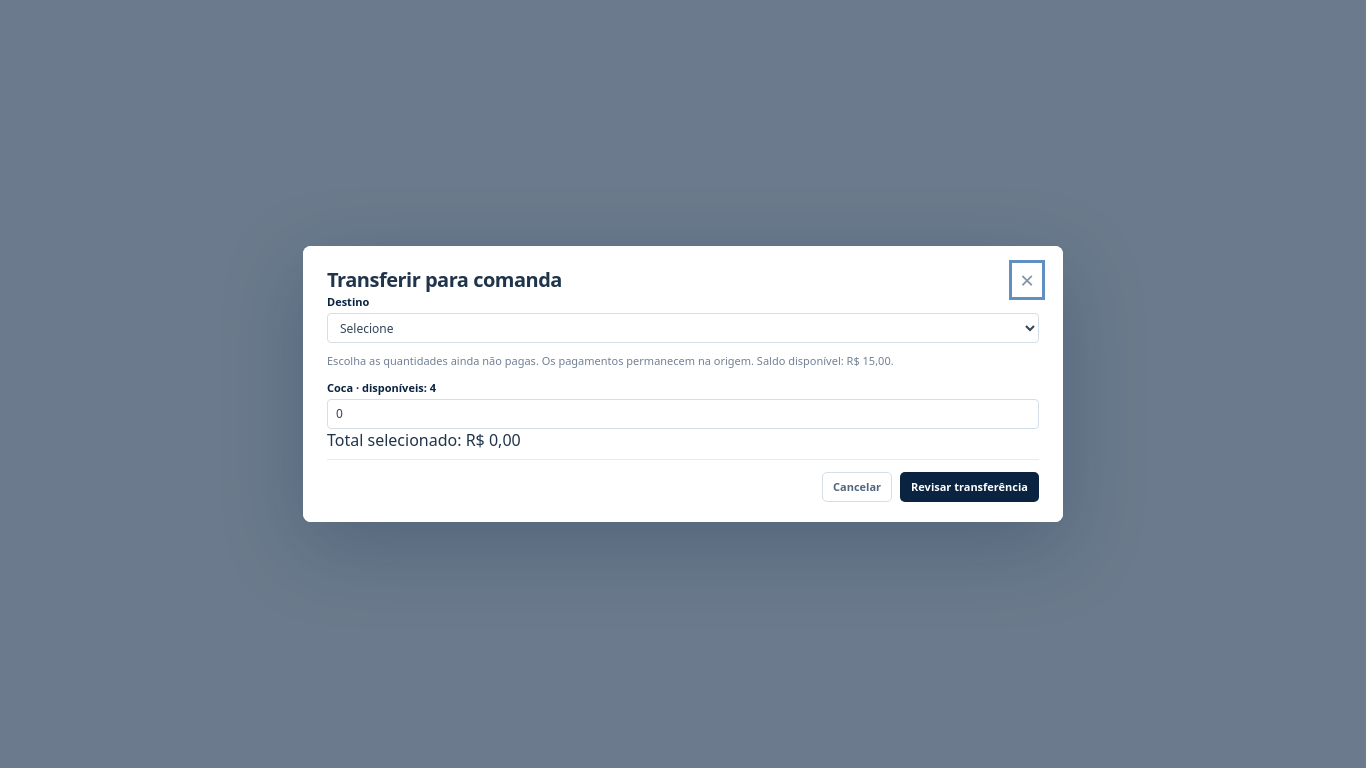
it: blocks transfers exceeding a balance reduced by value payments
Select "Comanda #2 · João" in the dropdown labelled "Destino" at (683, 328), box x1=327 y1=313 x2=1039 y2=343
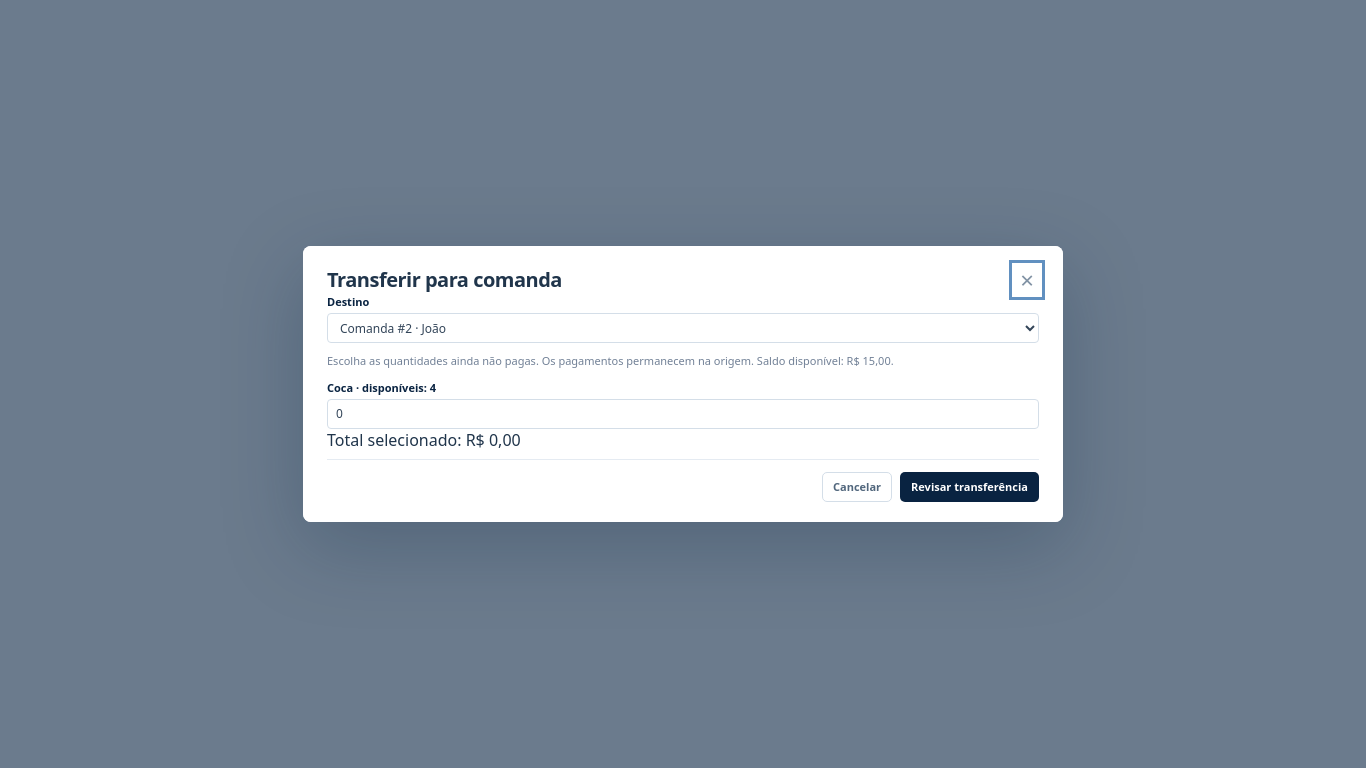
Replace the text in the number field named "Quantidade a transferir de Coca" with "2" at (683, 414), box x1=327 y1=399 x2=1039 y2=429
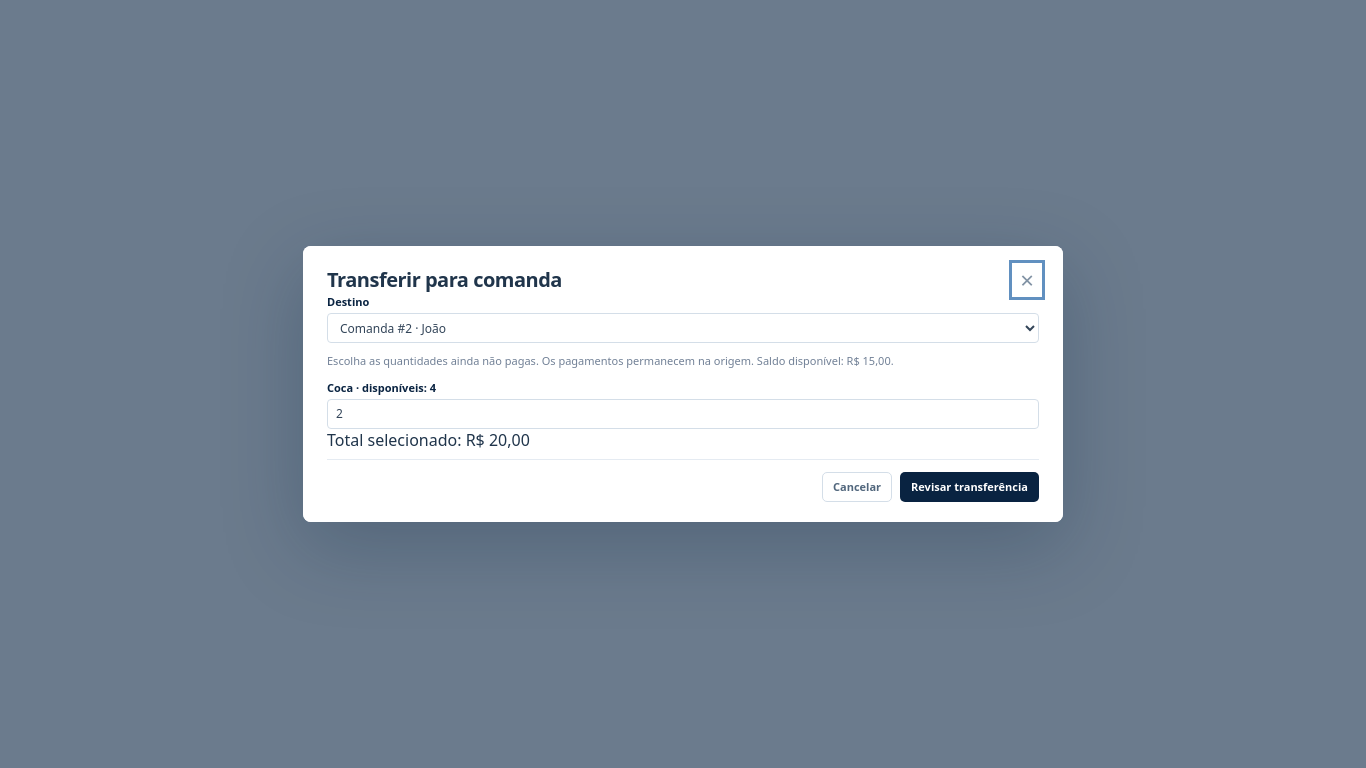
Click the button "Revisar transferência" at (970, 487), box x1=900 y1=472 x2=1039 y2=502
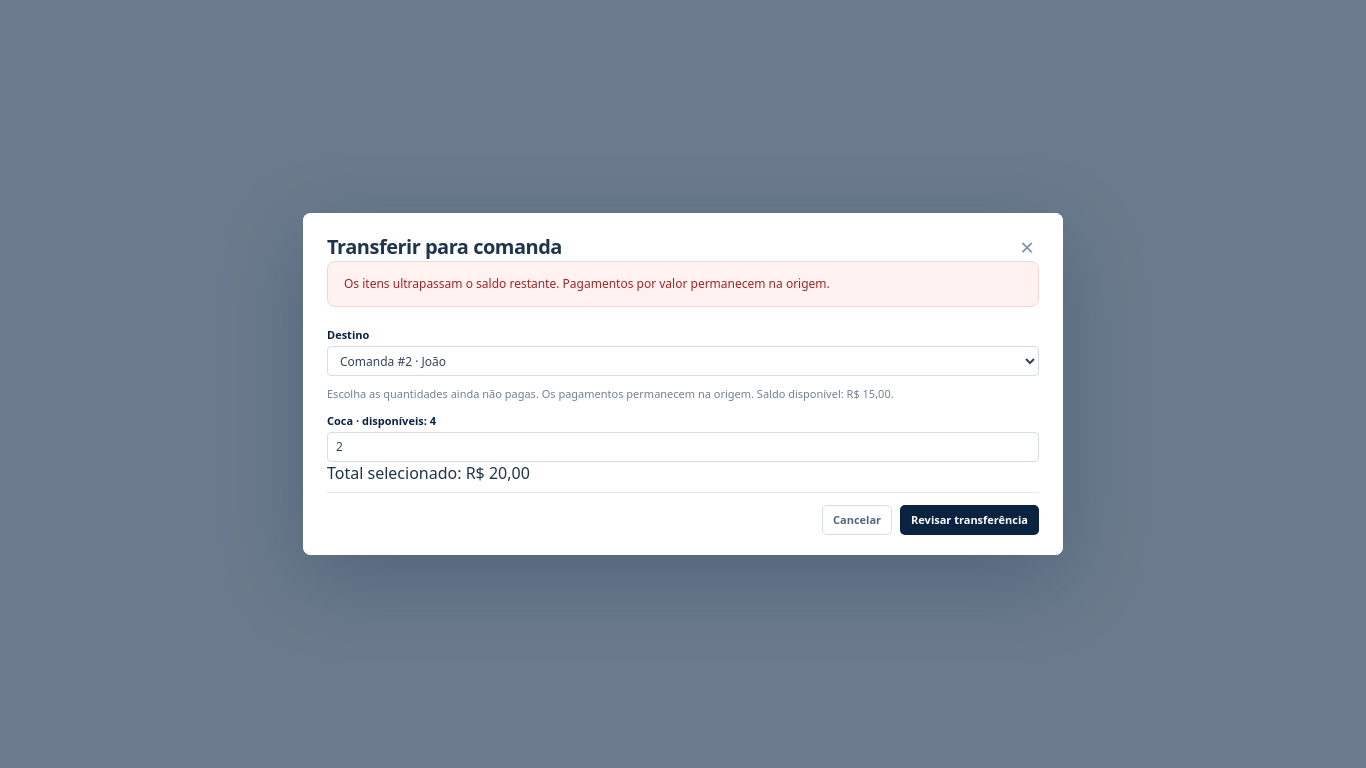
Check: the message shows "ultrapassam o saldo", box x1=344 y1=275 x2=830 y2=292
